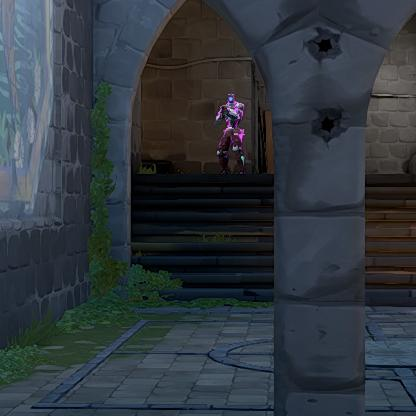enemyBody: (225, 104, 237, 128)
enemyHead: (228, 95, 234, 103)
